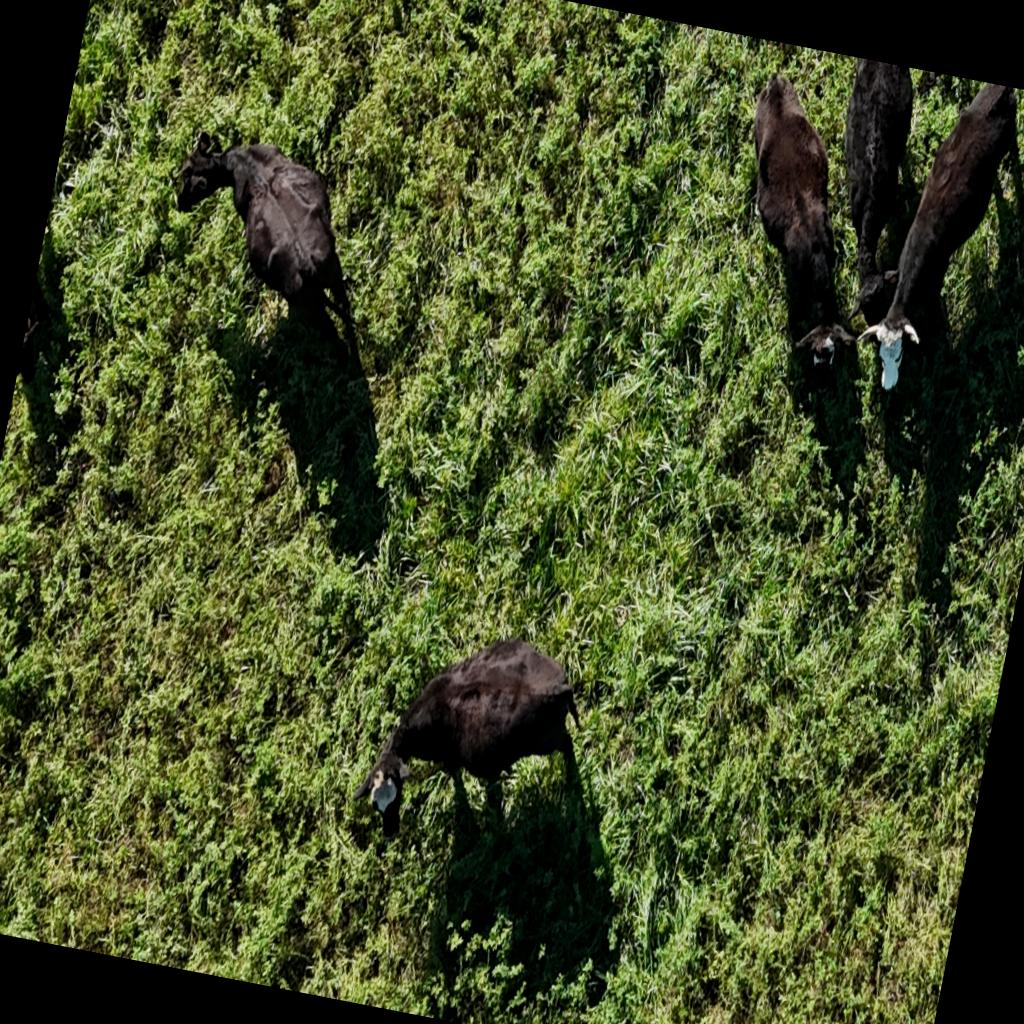cow: (129, 80, 419, 392), (337, 588, 613, 884), (842, 69, 1024, 408), (708, 68, 894, 374), (781, 52, 958, 312), (4, 228, 112, 458)
